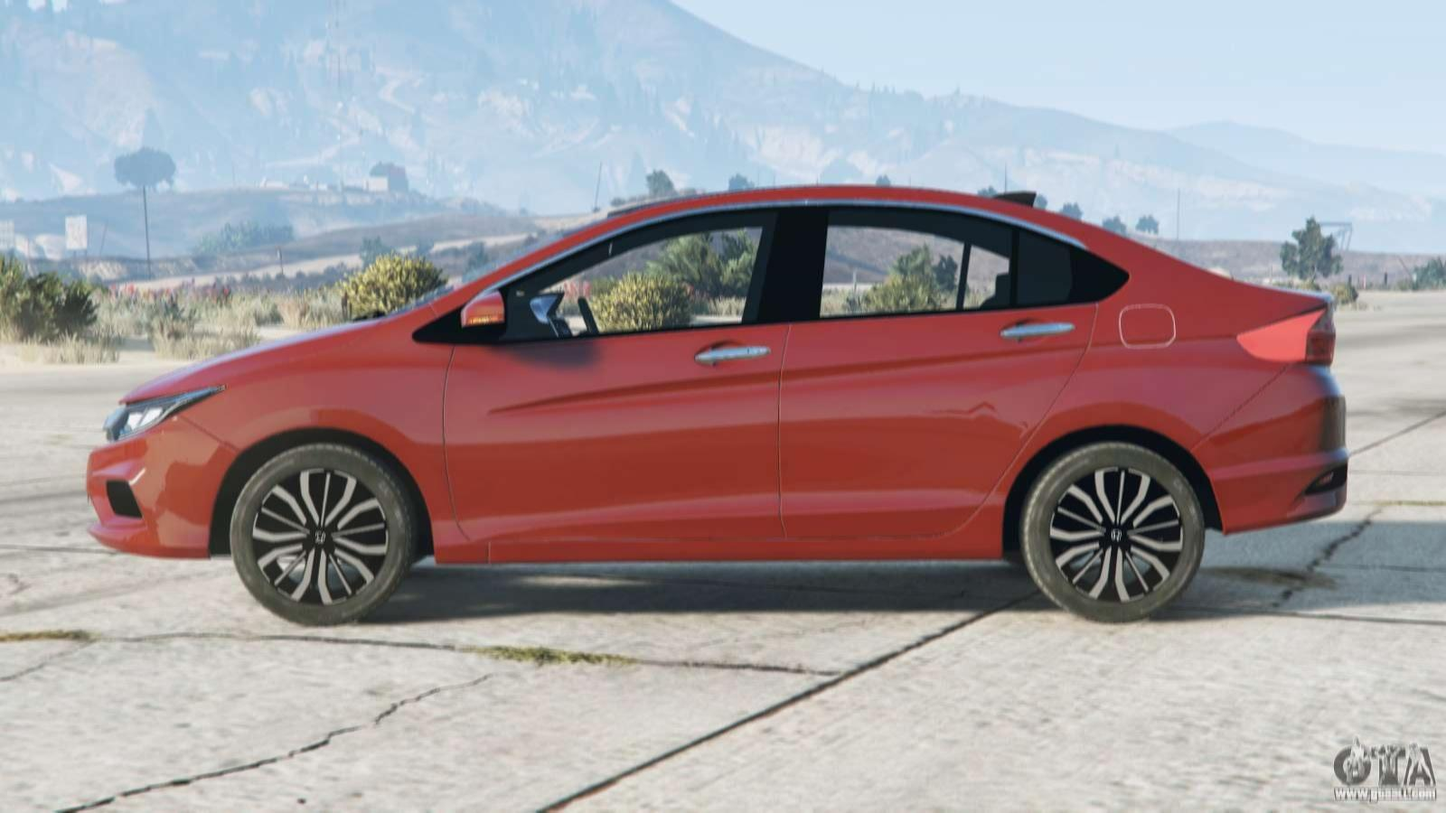Car hood: (111, 303, 410, 407)
Fender - -F-L-: (175, 313, 466, 574)
Fender - -R-L-: (999, 272, 1289, 569)
Front bumper: (73, 425, 237, 581)
Headlight - -L-: (88, 366, 247, 456)
Passenger-s door - -F-L-: (459, 179, 784, 544)
Passenger-s door - -R-L-: (784, 177, 1114, 542)
Rear bumper: (1204, 366, 1373, 546)
Rear light - -L-: (1225, 289, 1355, 376)
Side bumper - -L-: (425, 526, 1026, 577)
Side mirror - -L-: (454, 271, 539, 354)
